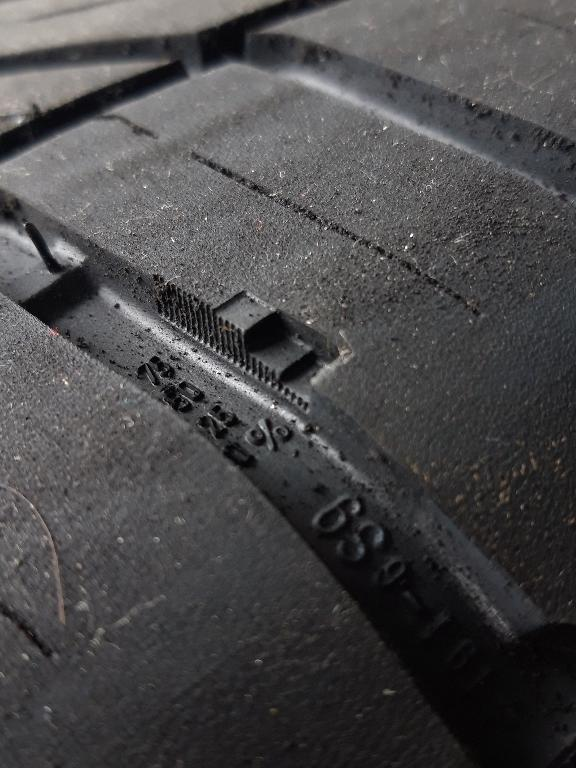temoin:50: (199, 280, 361, 427)
